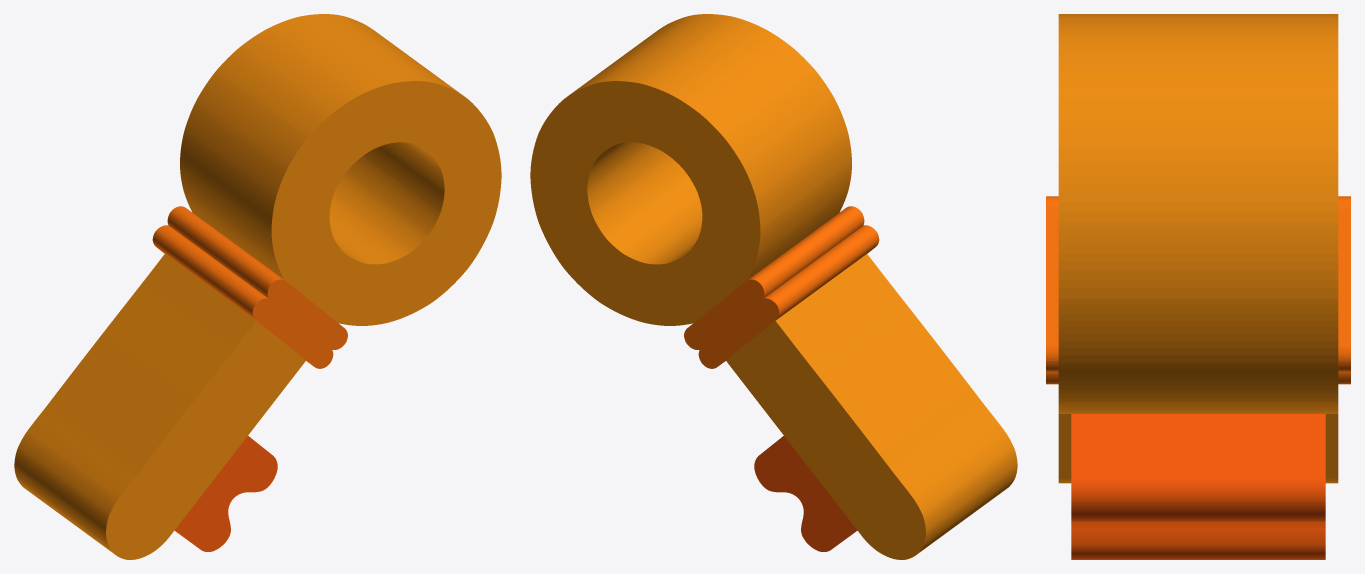
The picture shows the model from 3 angles, left to right: view 1: azimuth 30°, elevation 25°; view 2: azimuth 150°, elevation 25°; view 3: azimuth 270°, elevation 25°; orthographic projection. The views are drawn at different scales.
Parts seen in each view (by area): view 1: U+1F5DD_layer01_obj00, U+1F5DD_layer02_obj00, U+1F5DD_layer00_obj00; view 2: U+1F5DD_layer01_obj00, U+1F5DD_layer02_obj00, U+1F5DD_layer00_obj00; view 3: U+1F5DD_layer01_obj00, U+1F5DD_layer00_obj00, U+1F5DD_layer02_obj00.
Boxes of the visible parts, <box> form: U+1F5DD_layer01_obj00: <box>14,14,501,559</box>; U+1F5DD_layer02_obj00: <box>152,206,347,368</box>; U+1F5DD_layer00_obj00: <box>174,436,277,551</box>; U+1F5DD_layer01_obj00: <box>530,14,1017,559</box>; U+1F5DD_layer02_obj00: <box>684,206,879,368</box>; U+1F5DD_layer00_obj00: <box>754,436,857,551</box>; U+1F5DD_layer01_obj00: <box>1058,14,1338,483</box>; U+1F5DD_layer00_obj00: <box>1071,414,1325,559</box>; U+1F5DD_layer02_obj00: <box>1046,196,1350,384</box>.
Bounding box in the file's own units: 0.5484 × 0.5674 × 0.24.
